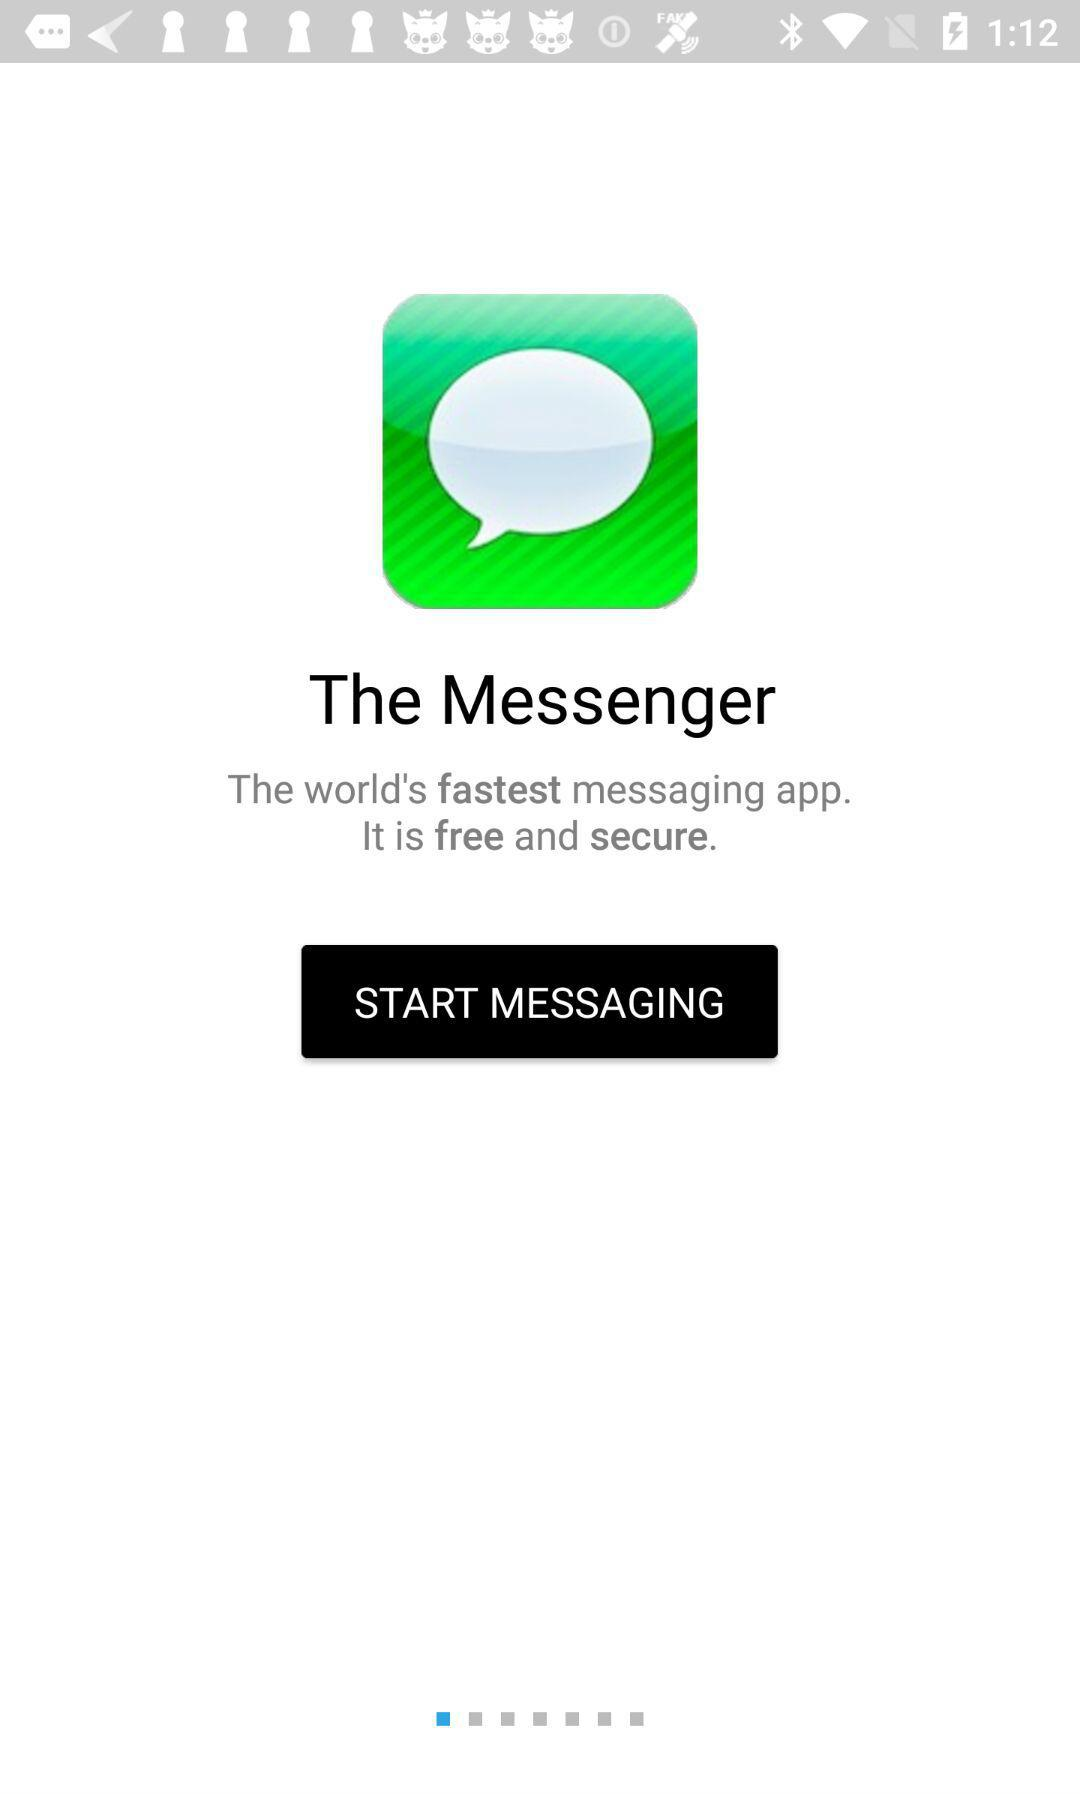Image: (380, 291, 700, 613)
PageIndicator: (436, 1709, 646, 1727)
Text: (227, 770, 852, 853), (307, 670, 778, 741)
TextButton: (301, 944, 779, 1058)
UpperTaskBar: (1, 1, 1080, 64)
